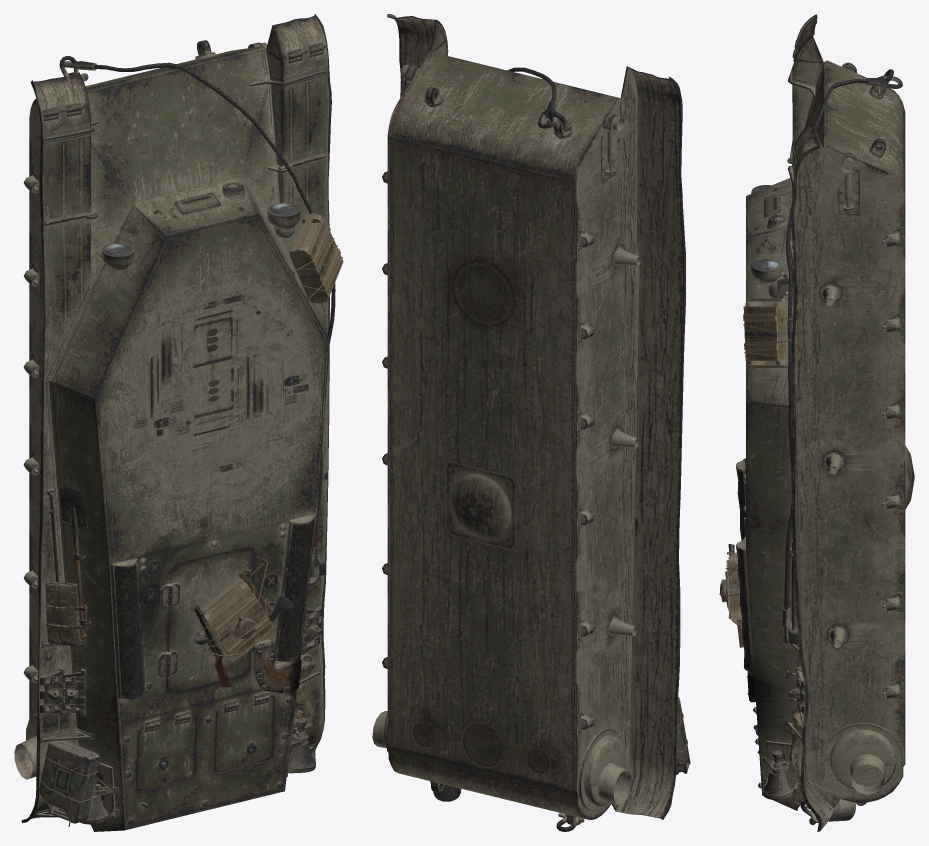
File: Hull.glb
The picture shows the model from 3 angles, left to right: view 1: azimuth 30°, elevation 25°; view 2: azimuth 150°, elevation 25°; view 3: azimuth 270°, elevation 25°; orthographic projection. The views are drawn at different scales.
Visible parts, largest first — view 1: set_0_group_0; view 2: set_0_group_0; view 3: set_0_group_0.
Boxes of the visible parts, x1,y1,x2,y2 form: set_0_group_0: (14, 14, 343, 831); set_0_group_0: (372, 14, 690, 831); set_0_group_0: (719, 14, 914, 831).
Bounding box in the file's own units: 2.19 × 5.54 × 1.38.
Materials: 1 (1 with a texture image).
